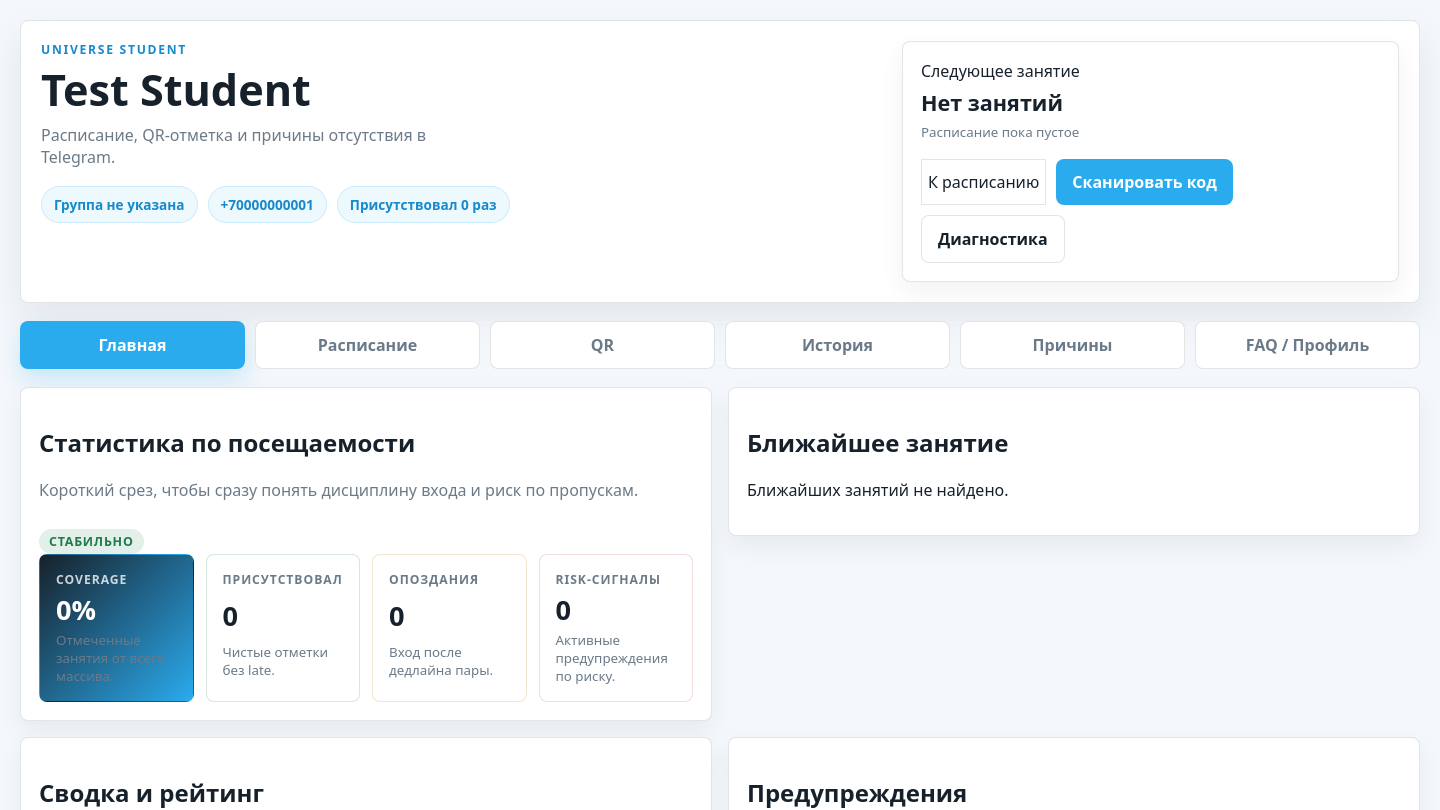
Scenario: marks attendance from Telegram QR scanner and shows success message
This screenshot has width=1440, height=810.
Expected: the heading "Test Student" is shown, [41,60,311,119]
Click the button "QR".
click(602, 345)  # box [490,321,715,369]
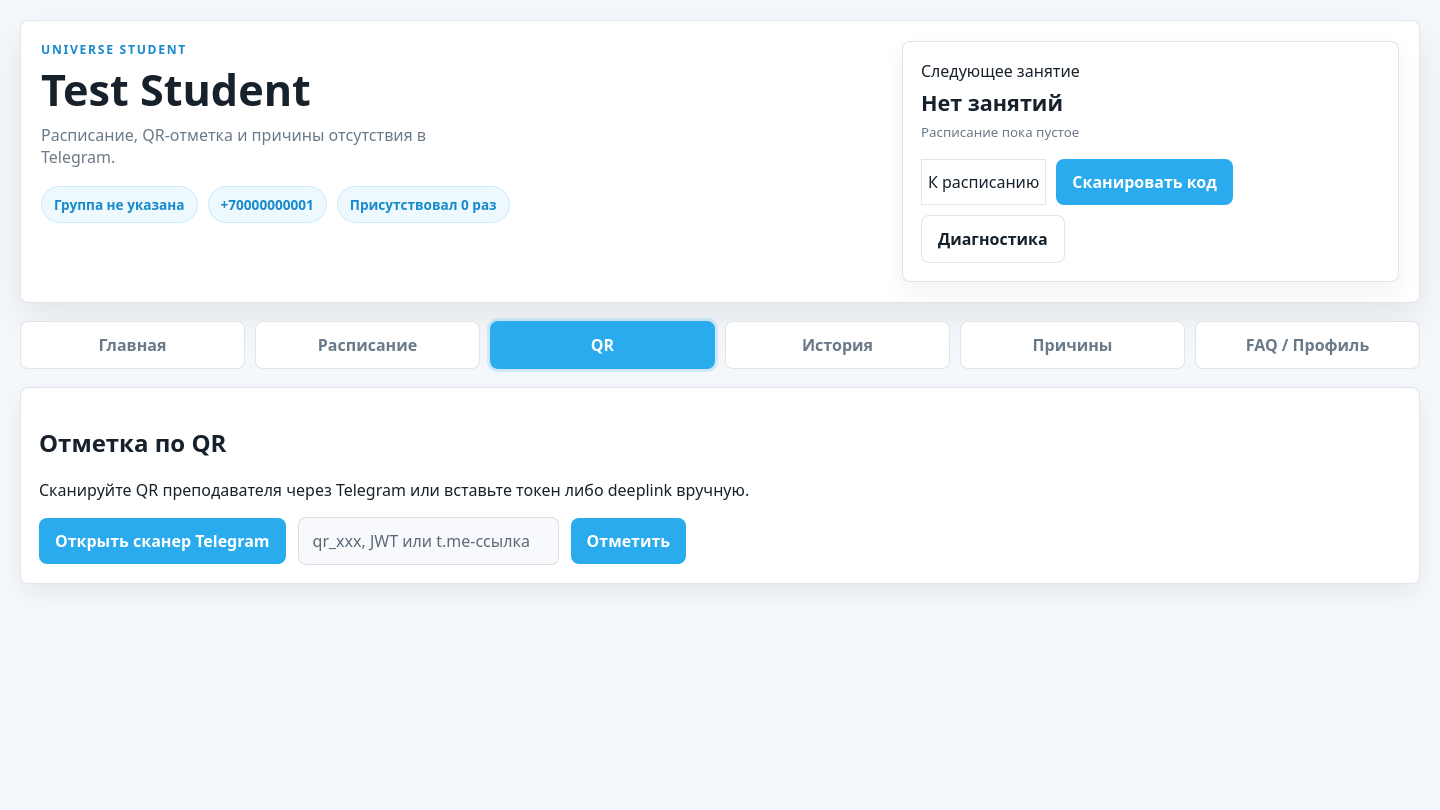
Click the button "Открыть сканер Telegram".
click(162, 541)  # box [39,518,286,564]
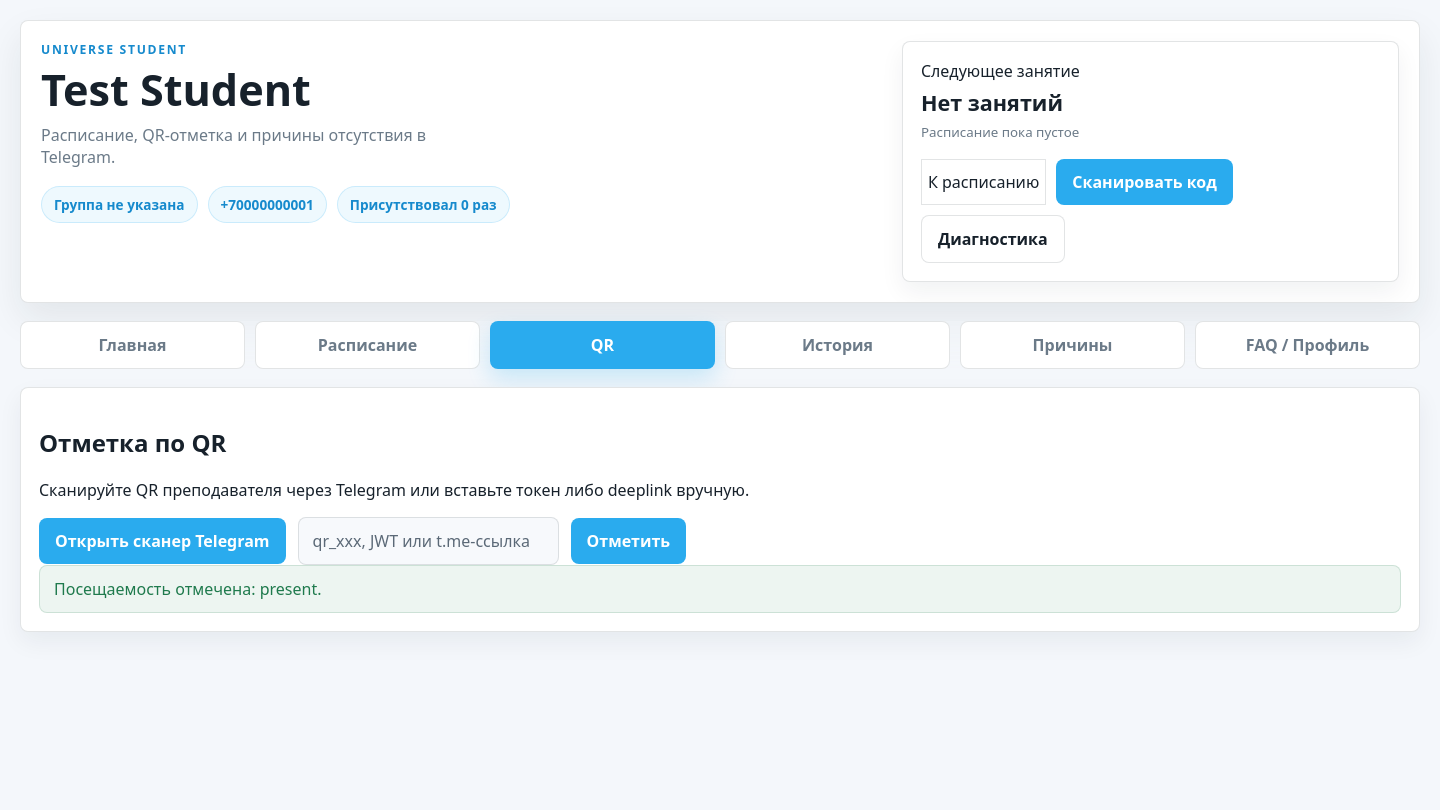
Now the text "Посещаемость отмечена: present." is shown, box [39,565,1401,613]
